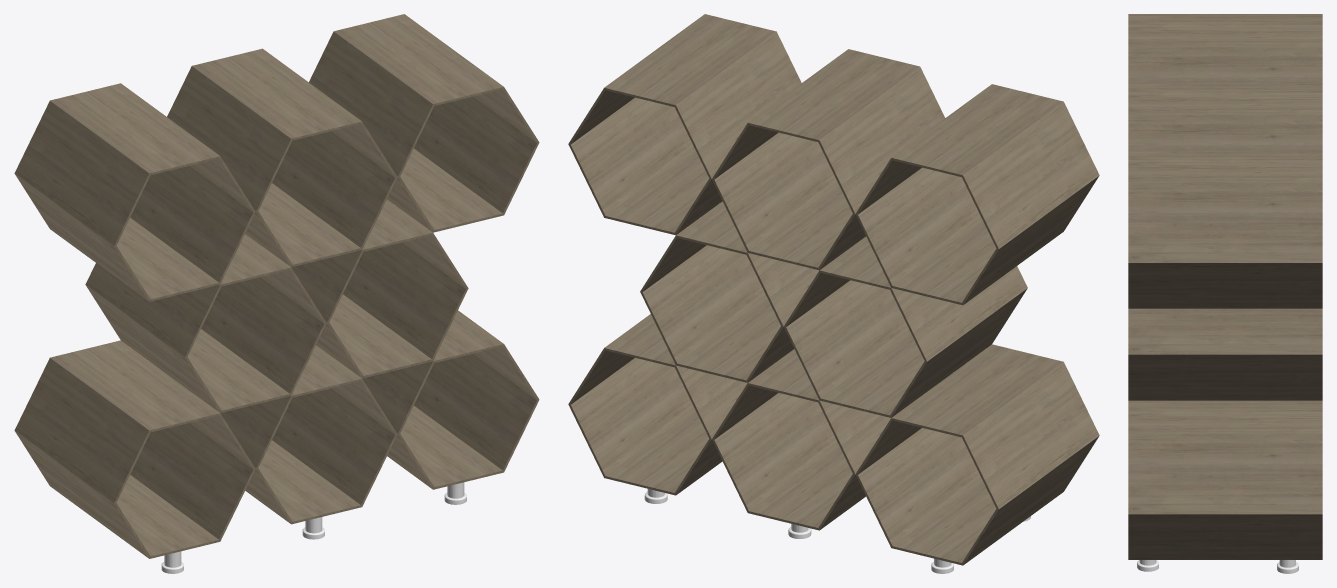
The picture shows the model from 3 angles, left to right: view 1: azimuth 30°, elevation 25°; view 2: azimuth 150°, elevation 25°; view 3: azimuth 270°, elevation 25°; orthographic projection. The views are drawn at different scales.
Visible parts, largest first — view 1: NGon004, NGon007, NGon005, NGon006, NGon009, NGon003, NGon002, NGon008; view 2: NGon007, NGon004, NGon005, NGon006, NGon009, NGon002, NGon008, NGon003; view 3: NGon002, NGon005, NGon008, NGon006, NGon007, Cylinder012.
Boxes of the visible parts, bbox=[...] form: NGon004: bbox=[14, 340, 255, 558]; NGon007: bbox=[14, 83, 255, 301]; NGon005: bbox=[309, 14, 539, 232]; NGon006: bbox=[167, 48, 397, 267]; NGon009: bbox=[85, 233, 326, 412]; NGon003: bbox=[220, 345, 397, 524]; NGon002: bbox=[362, 310, 539, 489]; NGon008: bbox=[291, 199, 468, 378]; NGon007: bbox=[855, 84, 1099, 305]; NGon004: bbox=[855, 344, 1099, 565]; NGon005: bbox=[568, 14, 801, 235]; NGon006: bbox=[712, 49, 944, 270]; NGon009: bbox=[783, 236, 1027, 417]; NGon002: bbox=[568, 314, 747, 495]; NGon008: bbox=[640, 201, 819, 382]; NGon003: bbox=[712, 349, 890, 530]; NGon002: bbox=[1128, 400, 1322, 559]; NGon005: bbox=[1128, 149, 1322, 308]; NGon008: bbox=[1128, 308, 1322, 400]; NGon006: bbox=[1128, 81, 1322, 149]; NGon007: bbox=[1128, 14, 1322, 81]; Cylinder012: bbox=[1277, 560, 1298, 573].
Bounding box in the file's own units: 1.73 × 1.6 × 0.7.
2 materials, 1 textured.
